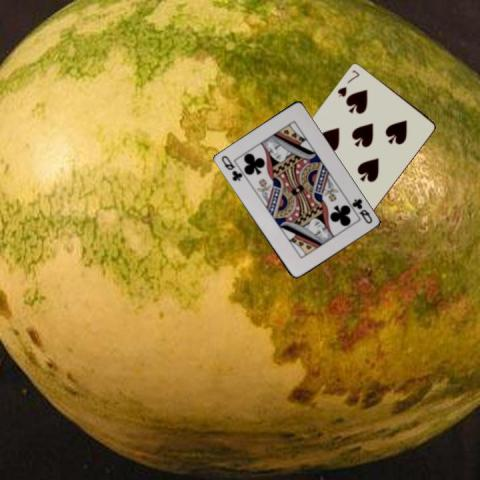7s: (334, 67, 360, 98)
Qc: (218, 152, 243, 182), (349, 196, 373, 226)
